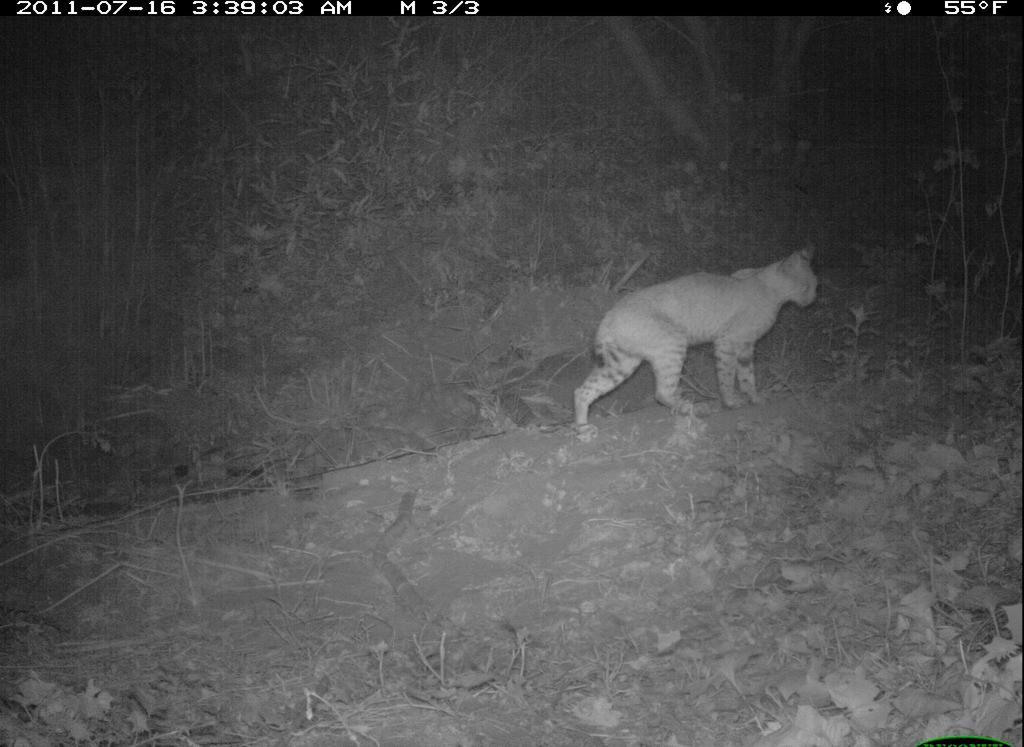bobcat: (561, 232, 836, 459)
